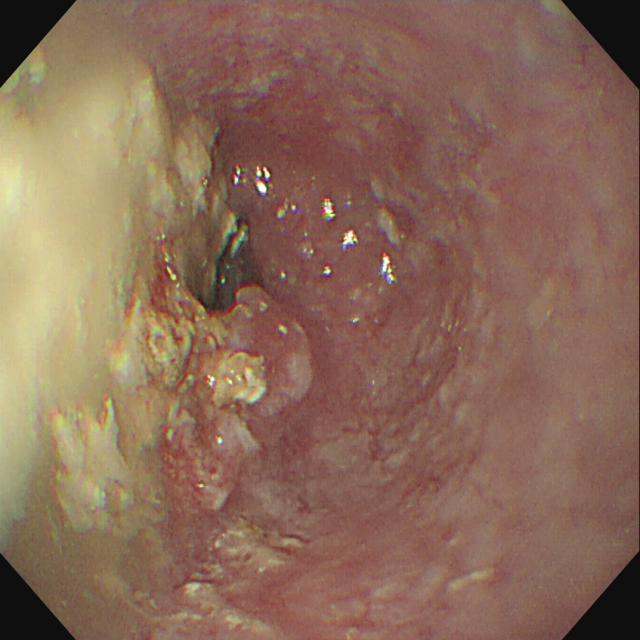B: (3, 30, 254, 631)
U: (232, 162, 274, 197), (341, 230, 361, 256), (380, 255, 396, 286), (321, 198, 339, 223)
